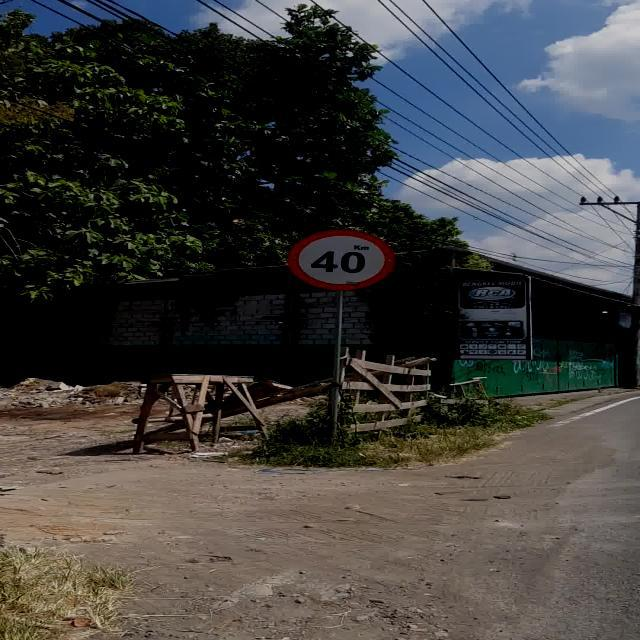Kecepatan Maks. 40 km: (288, 229, 396, 291)
